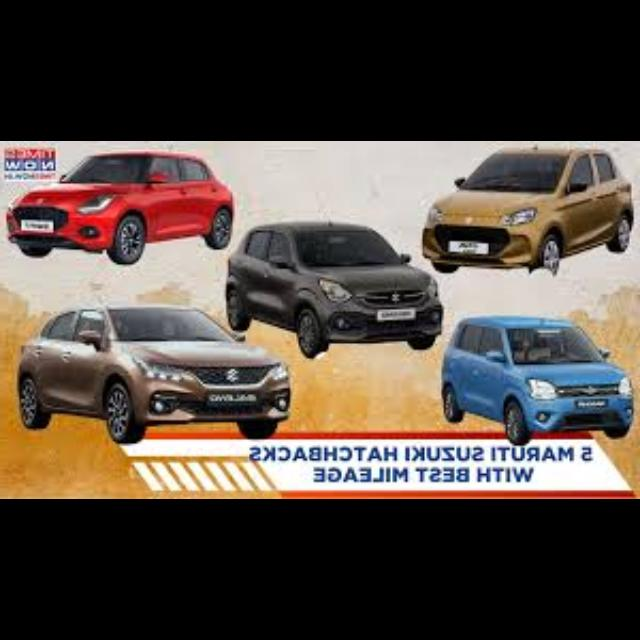number-plate: (203, 395, 267, 414), (450, 240, 491, 255), (380, 308, 418, 321), (23, 218, 55, 231), (578, 399, 608, 408)
vehicles: (20, 301, 289, 442), (229, 220, 444, 357), (427, 145, 636, 275), (437, 312, 633, 444), (9, 150, 235, 263)
